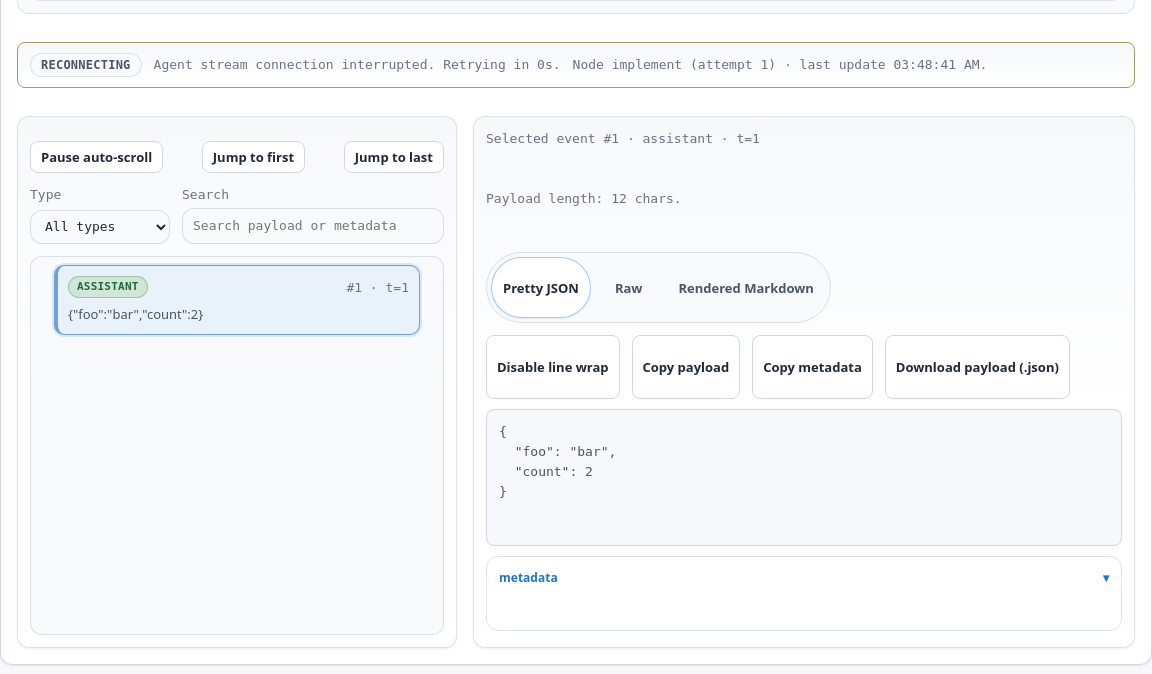
RunDetailContent realtime updates › returns to pretty mode and copies payload and metadata from inspector detail
The image size is (1152, 674).
(page scrolled)
Click the text "{\"foo\":\"bar\",\"count\":2}" at (136, 314), box [68,305,203,323]
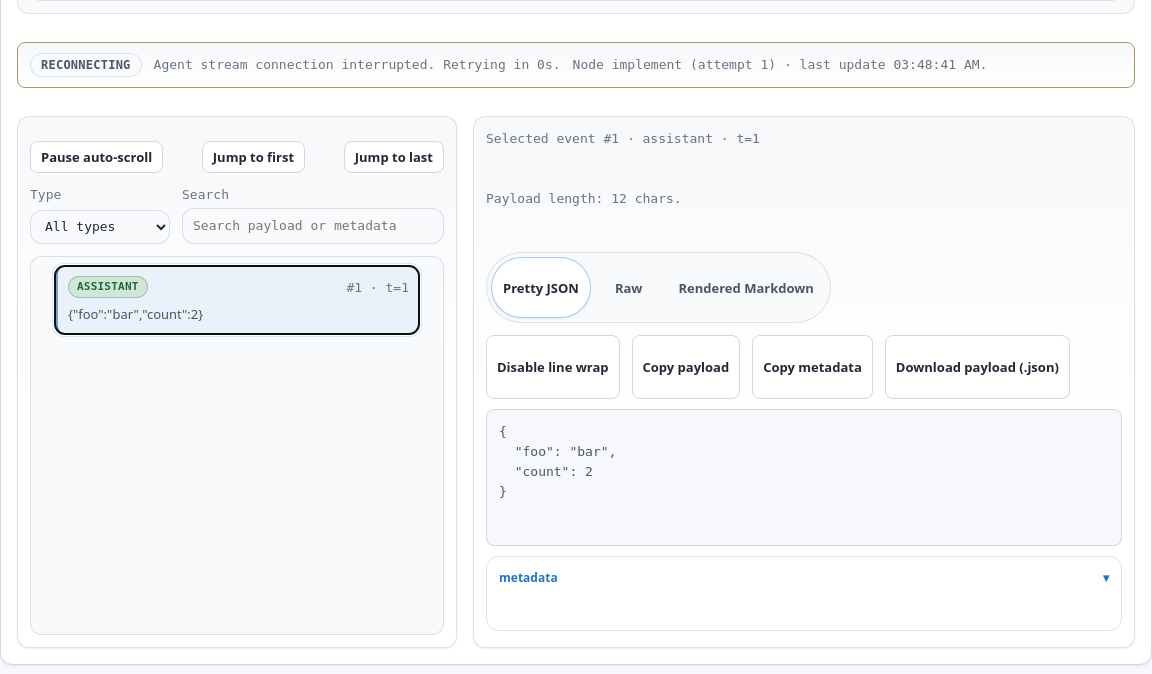
Click the tab "Raw" at (629, 288), box [603,257,654,318]
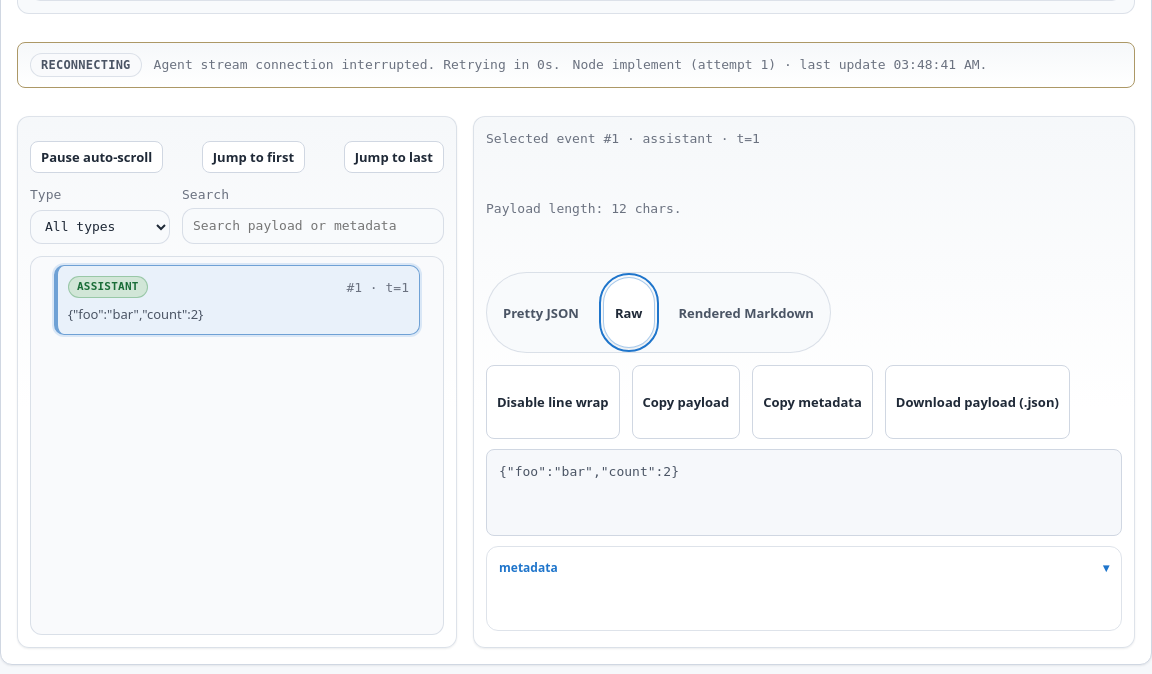
Click the tab "Pretty JSON" at (541, 313), box [491,277,591,348]
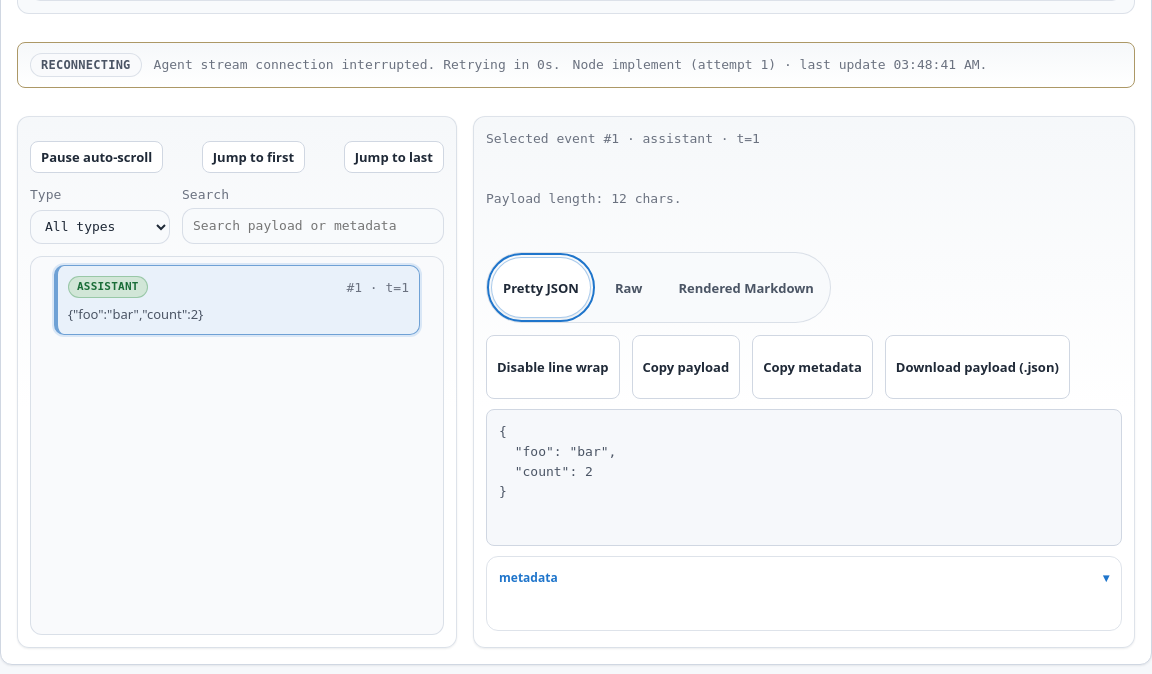
expect the text "{ \"foo\": \"bar\", \"count\": 2 }" is shown: met, box [499,424,616,499]
Click the button "Copy payload" at (686, 367), box [632,335,740,399]
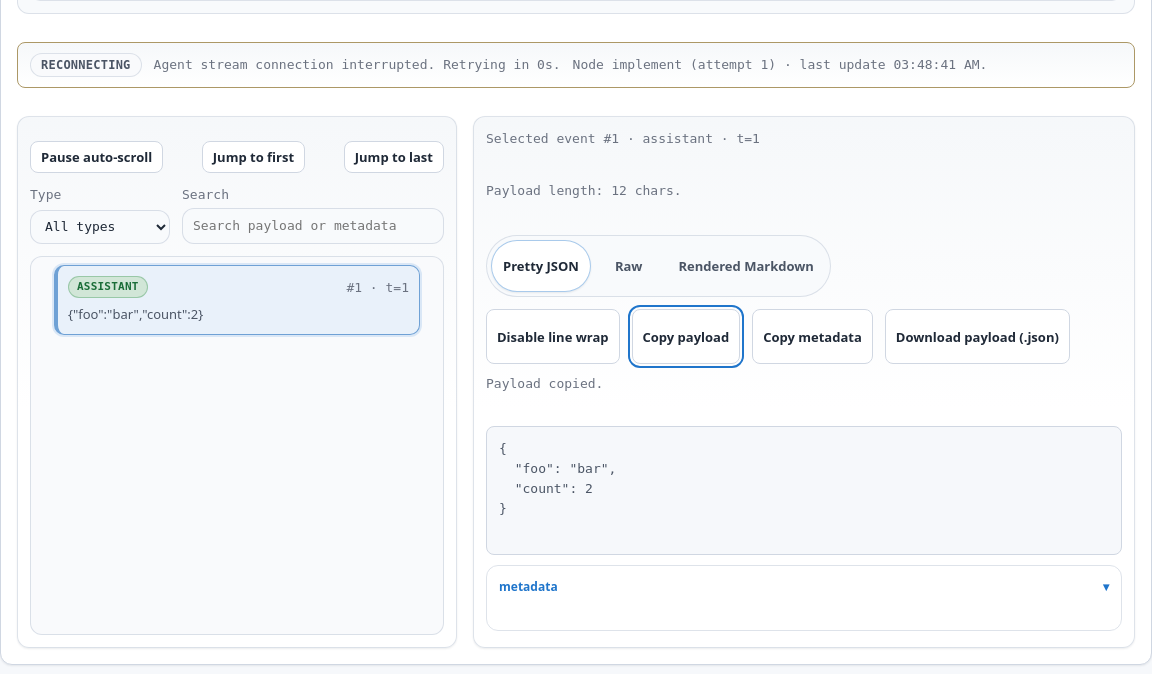
expect the text "Payload copied." is shown: met, box [486,376,603,391]
Click the button "Copy metadata" at (812, 337), box [752,309,873,364]
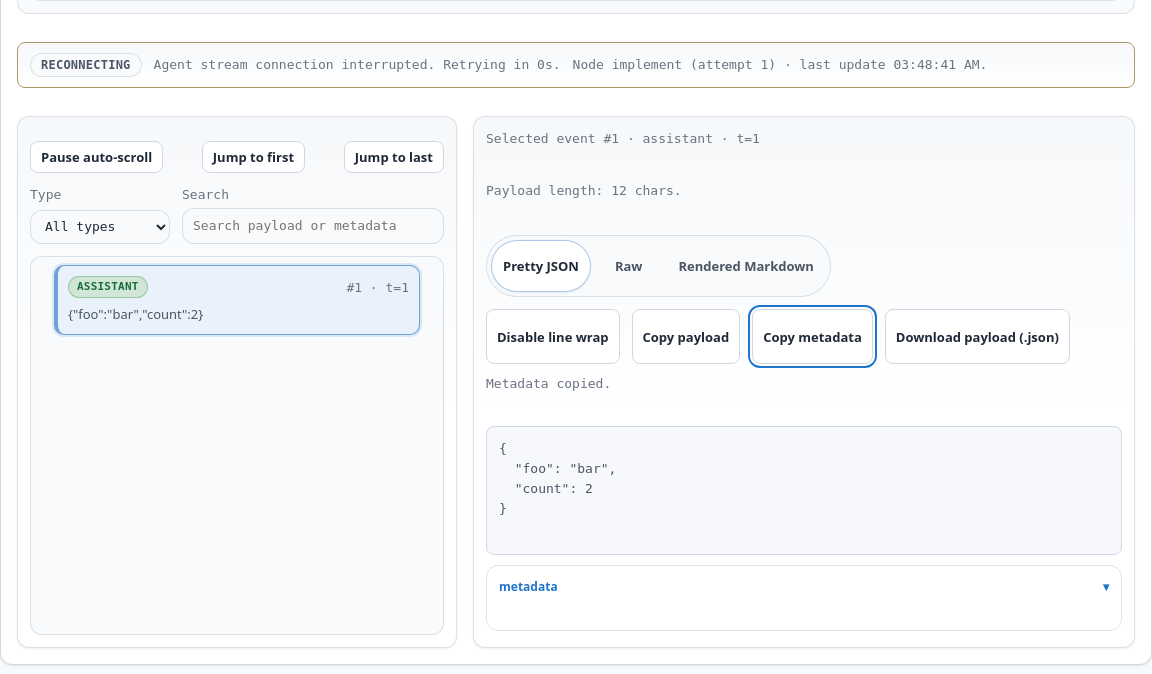
expect the text "Metadata copied." is shown: met, box [486,376,611,391]
